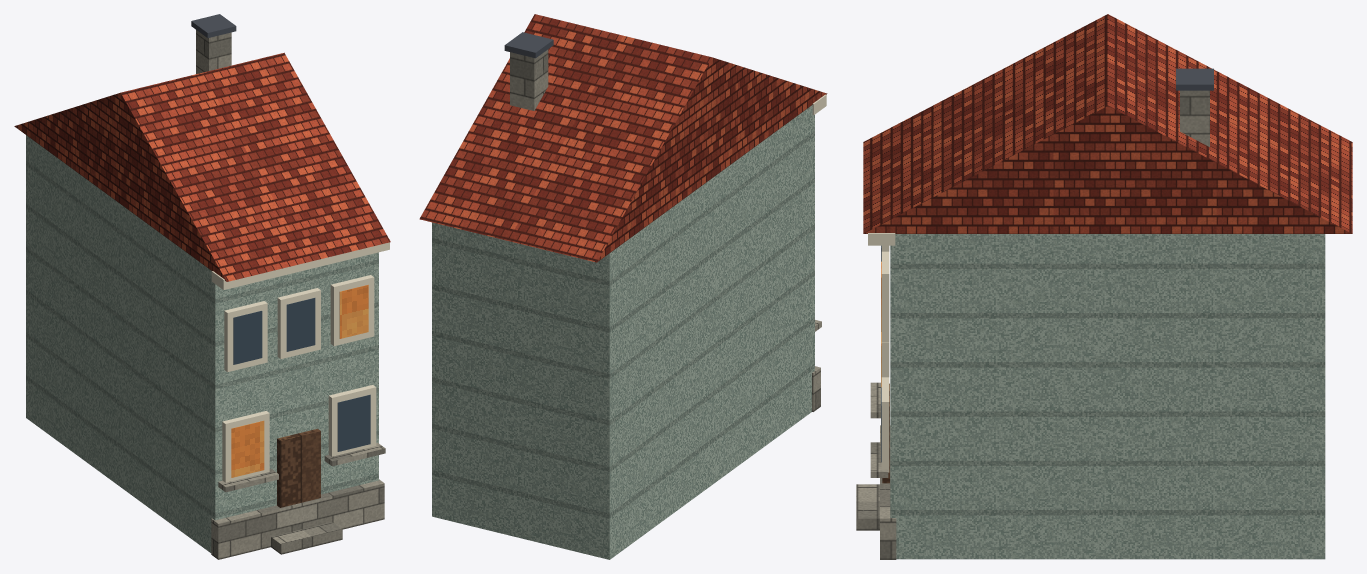
The model's file is ENV_C_Facade_3.fbx.
3 renders of one model, left to right at view 1: azimuth 30°, elevation 25°; view 2: azimuth 150°, elevation 25°; view 3: azimuth 270°, elevation 25°, orthographic. The views are drawn at different scales.
Parts seen in each view (by area): view 1: ENV_C_Facade_3; view 2: ENV_C_Facade_3; view 3: ENV_C_Facade_3.
Boxes of the visible parts, x1,y1,x2,y2 form: ENV_C_Facade_3: (14,14,390,559); ENV_C_Facade_3: (419,14,827,559); ENV_C_Facade_3: (856,14,1352,559).
Bounding box in the file's own units: 406 × 942 × 913.
Materials: 8 (5 with a texture image).
